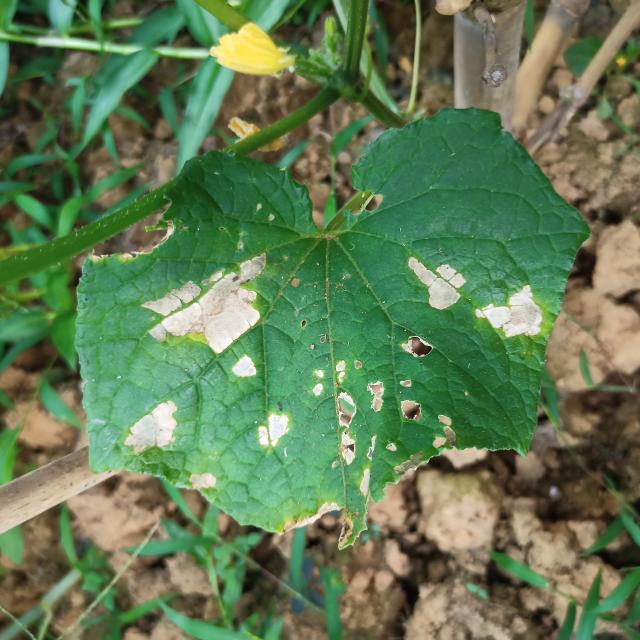disease_cucumber: (402, 251, 550, 348), (140, 252, 277, 355), (308, 355, 387, 465), (124, 399, 183, 456), (252, 403, 294, 453), (186, 469, 221, 494), (232, 352, 260, 380)
